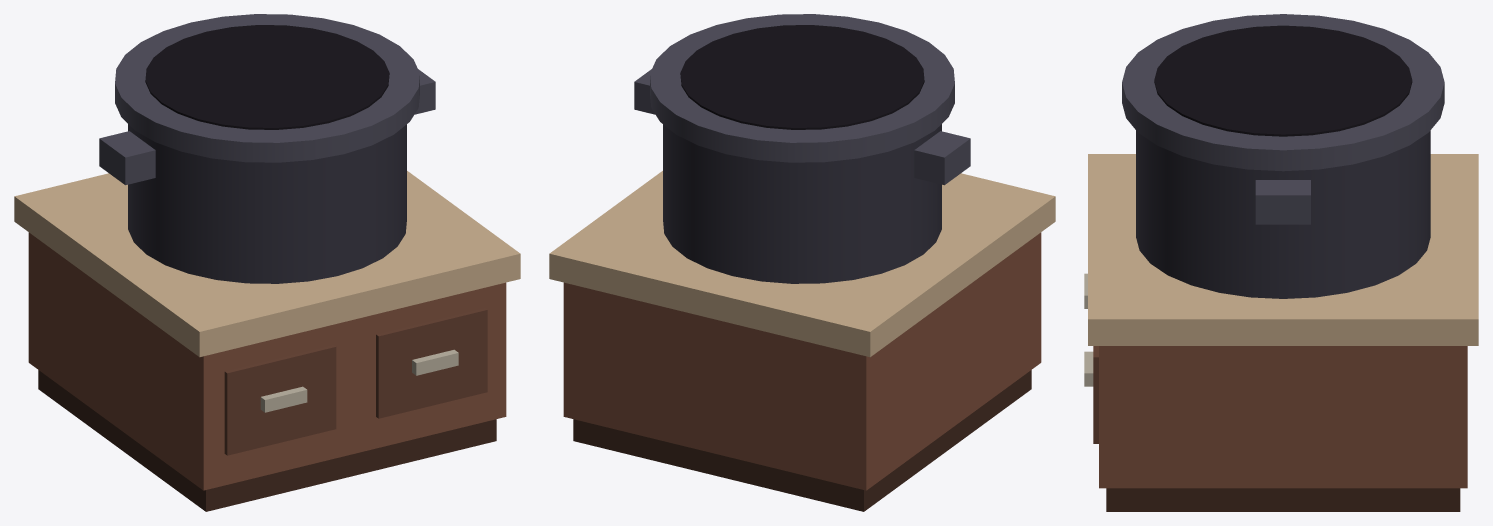
Rendered from k_meadow_cauldron.glb.
The picture shows the model from 3 angles, left to right: view 1: azimuth 30°, elevation 25°; view 2: azimuth 150°, elevation 25°; view 3: azimuth 270°, elevation 25°; orthographic projection. The views are drawn at different scales.
Parts seen in each view (by area): view 1: piece; view 2: piece; view 3: piece.
Part boxes in pixels (x1,y1,x2,y2): piece: [14, 14, 520, 511]; piece: [549, 14, 1055, 511]; piece: [1084, 14, 1478, 511].
Bounding box in the file's own units: 1.06 × 1.07 × 1.07.
